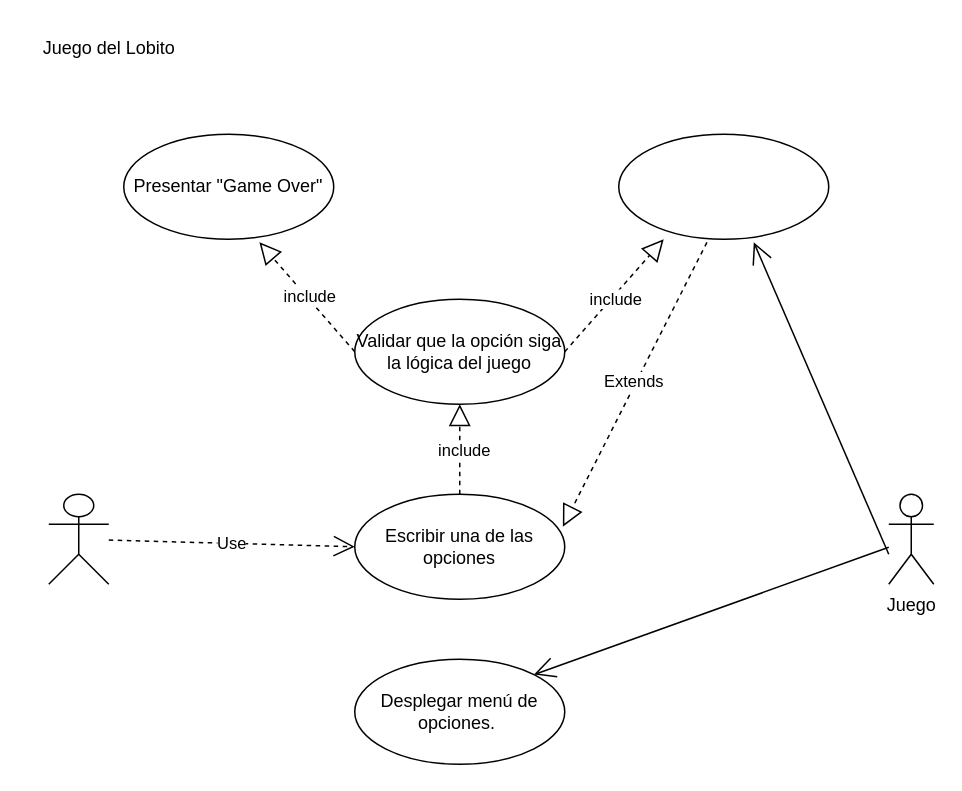
Image size: 962x791. Some labels were removed from this diagram. Here are the shapes that lost their labels. From the top down, the box of each, then its label:
(617, 133, 829, 239): Animar barco en movimiento
(47, 493, 109, 584): Usuario
